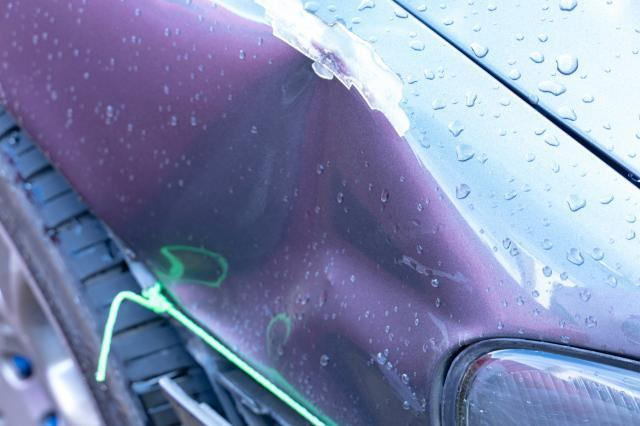dent: (139, 64, 487, 426)
